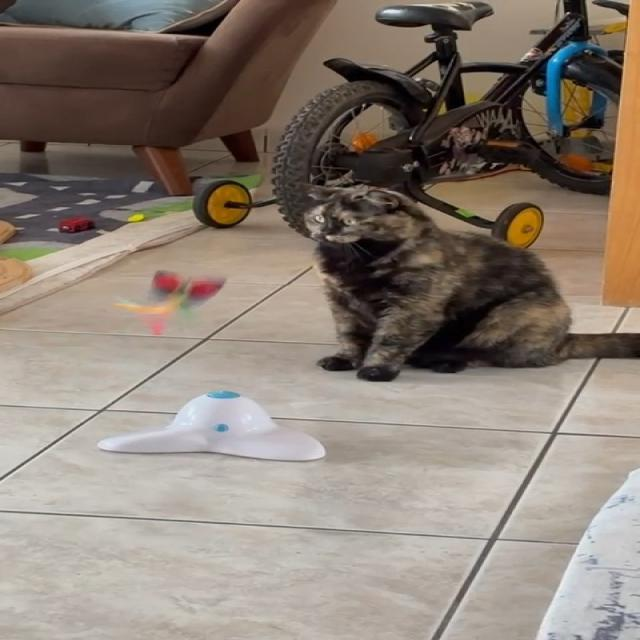authorized: (289, 180, 639, 382)
